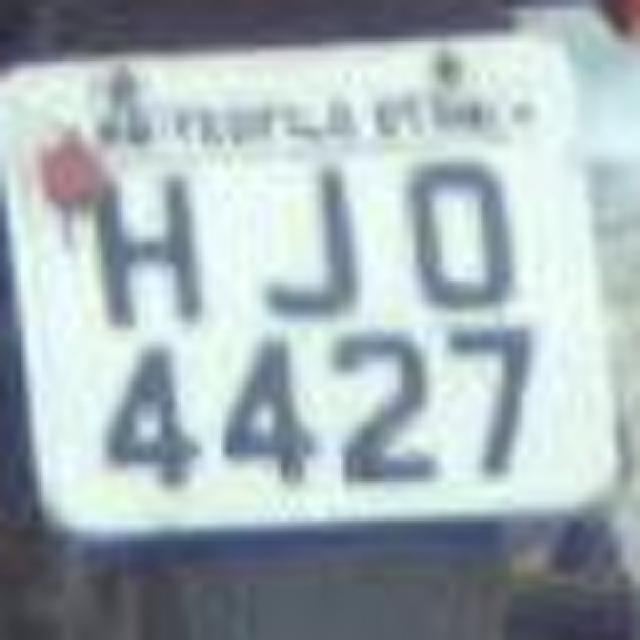2: (304, 320, 451, 495)
4: (80, 311, 208, 504), (191, 315, 324, 500)
7: (424, 312, 556, 500)
H: (80, 148, 208, 332)
J: (236, 160, 384, 328)
O: (396, 140, 536, 332)
